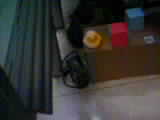duck: (79, 22, 104, 54)
